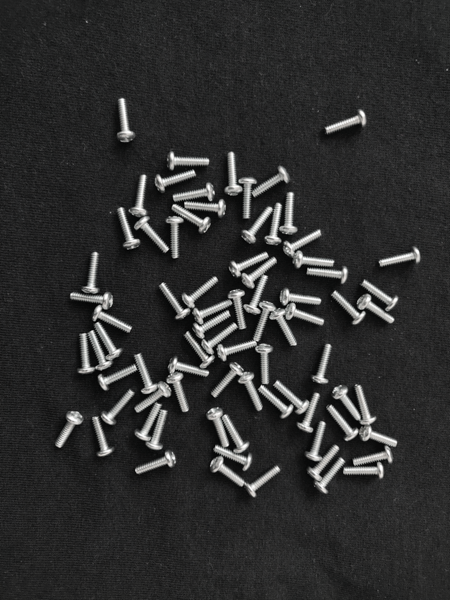shortscrew: (134, 216, 169, 254), (331, 290, 367, 326), (362, 279, 401, 312), (241, 206, 274, 245), (185, 331, 217, 370), (258, 386, 294, 420), (210, 362, 244, 398), (274, 382, 311, 415), (181, 277, 219, 309), (252, 167, 291, 198), (172, 205, 212, 235), (240, 258, 277, 290), (160, 282, 191, 320), (282, 230, 322, 259), (244, 467, 280, 499), (202, 323, 238, 355), (134, 402, 162, 443), (92, 305, 133, 333), (134, 382, 171, 413), (54, 411, 84, 449), (133, 353, 160, 395), (101, 391, 134, 425), (307, 446, 339, 481), (358, 294, 395, 324), (314, 459, 345, 494), (331, 385, 361, 421), (97, 365, 137, 392), (269, 309, 298, 346), (212, 445, 253, 471), (228, 252, 269, 278), (193, 311, 231, 339), (95, 322, 123, 360), (325, 110, 367, 135), (210, 456, 245, 486), (224, 414, 250, 454), (135, 450, 176, 475), (379, 246, 423, 269), (117, 208, 141, 250), (238, 371, 263, 411), (88, 331, 113, 371), (296, 393, 320, 434), (206, 407, 230, 448), (244, 276, 268, 316), (93, 415, 115, 458), (115, 97, 136, 142), (145, 411, 168, 452), (355, 384, 377, 426), (166, 356, 210, 377), (285, 303, 325, 326), (173, 182, 216, 203), (167, 372, 189, 413), (359, 425, 398, 448), (253, 301, 275, 341), (312, 344, 333, 385), (305, 422, 326, 462), (253, 344, 273, 385), (129, 176, 149, 217), (228, 288, 248, 329), (217, 341, 256, 362), (167, 152, 210, 171), (71, 291, 114, 310), (265, 203, 284, 246), (185, 199, 227, 218), (225, 152, 243, 196), (280, 192, 298, 236), (353, 447, 394, 466), (307, 267, 350, 285), (82, 252, 100, 295), (293, 251, 335, 269), (166, 217, 184, 259), (77, 334, 95, 375), (279, 289, 322, 306), (240, 178, 257, 220), (344, 462, 384, 479)
